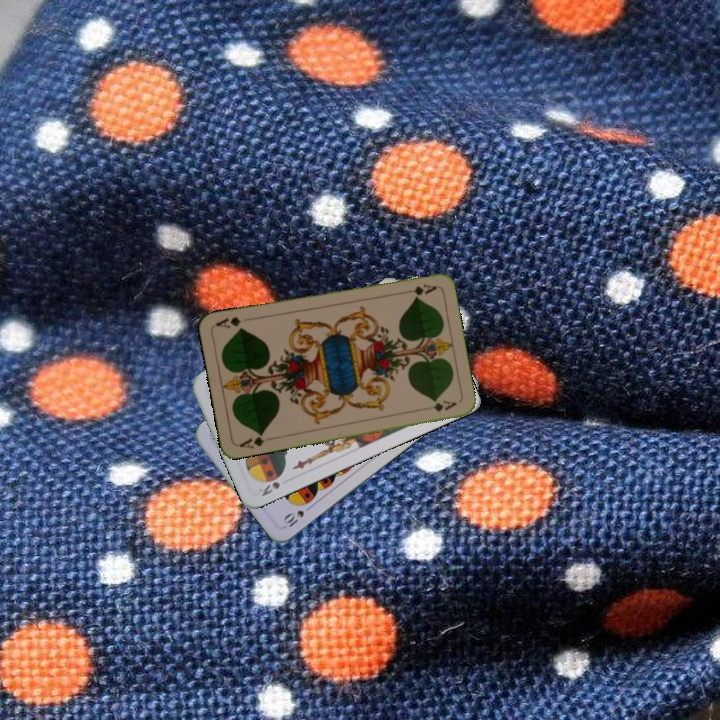GA: (235, 429, 275, 451), (399, 280, 439, 298)
S10: (279, 501, 315, 530)
SK: (257, 478, 282, 499)
